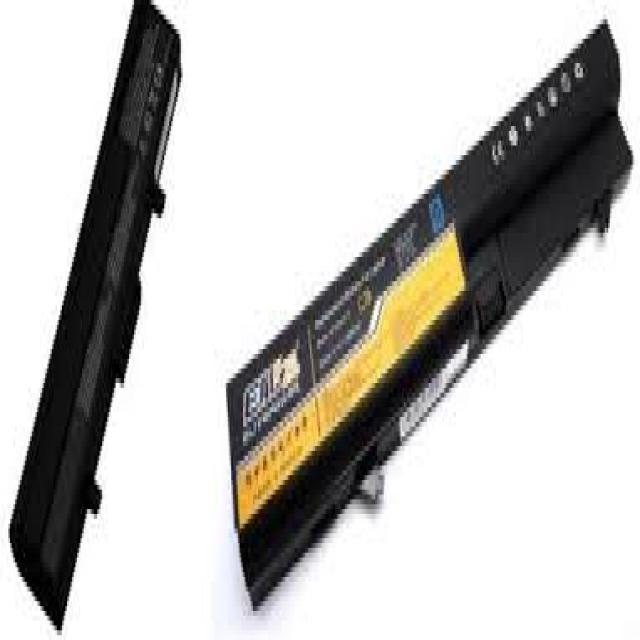battery: (226, 0, 630, 608), (4, 0, 184, 633)
